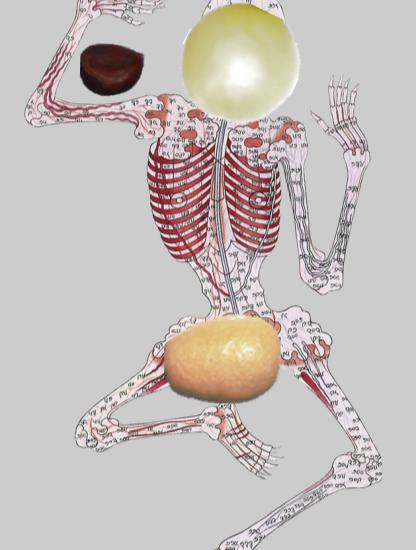Chestnut: (80, 38, 145, 103)
Grape: (179, 5, 299, 125)
Kumquats: (164, 300, 283, 419)
